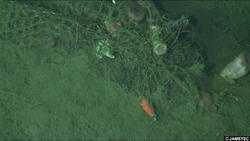fishing net: (1, 1, 210, 112)
